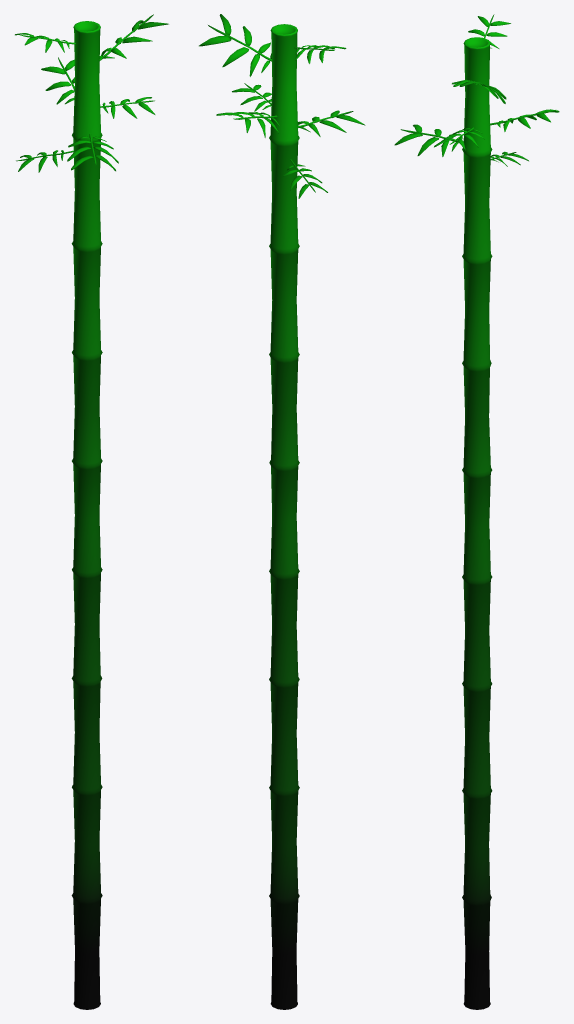
Rendered from Bamboo.FBX.
3 renders of one model, left to right at view 1: azimuth 30°, elevation 25°; view 2: azimuth 150°, elevation 25°; view 3: azimuth 270°, elevation 25°, orthographic.
Parts seen in each view (by area): view 1: Bamboo_low; view 2: Bamboo_low; view 3: Bamboo_low.
Boxes of the visible parts, box(x1,y1,x2,y2) form: Bamboo_low: box(15, 14, 168, 1009); Bamboo_low: box(199, 14, 365, 1009); Bamboo_low: box(394, 14, 559, 1009).
Bounding box in the file's own units: 25.84 × 178 × 27.69.
